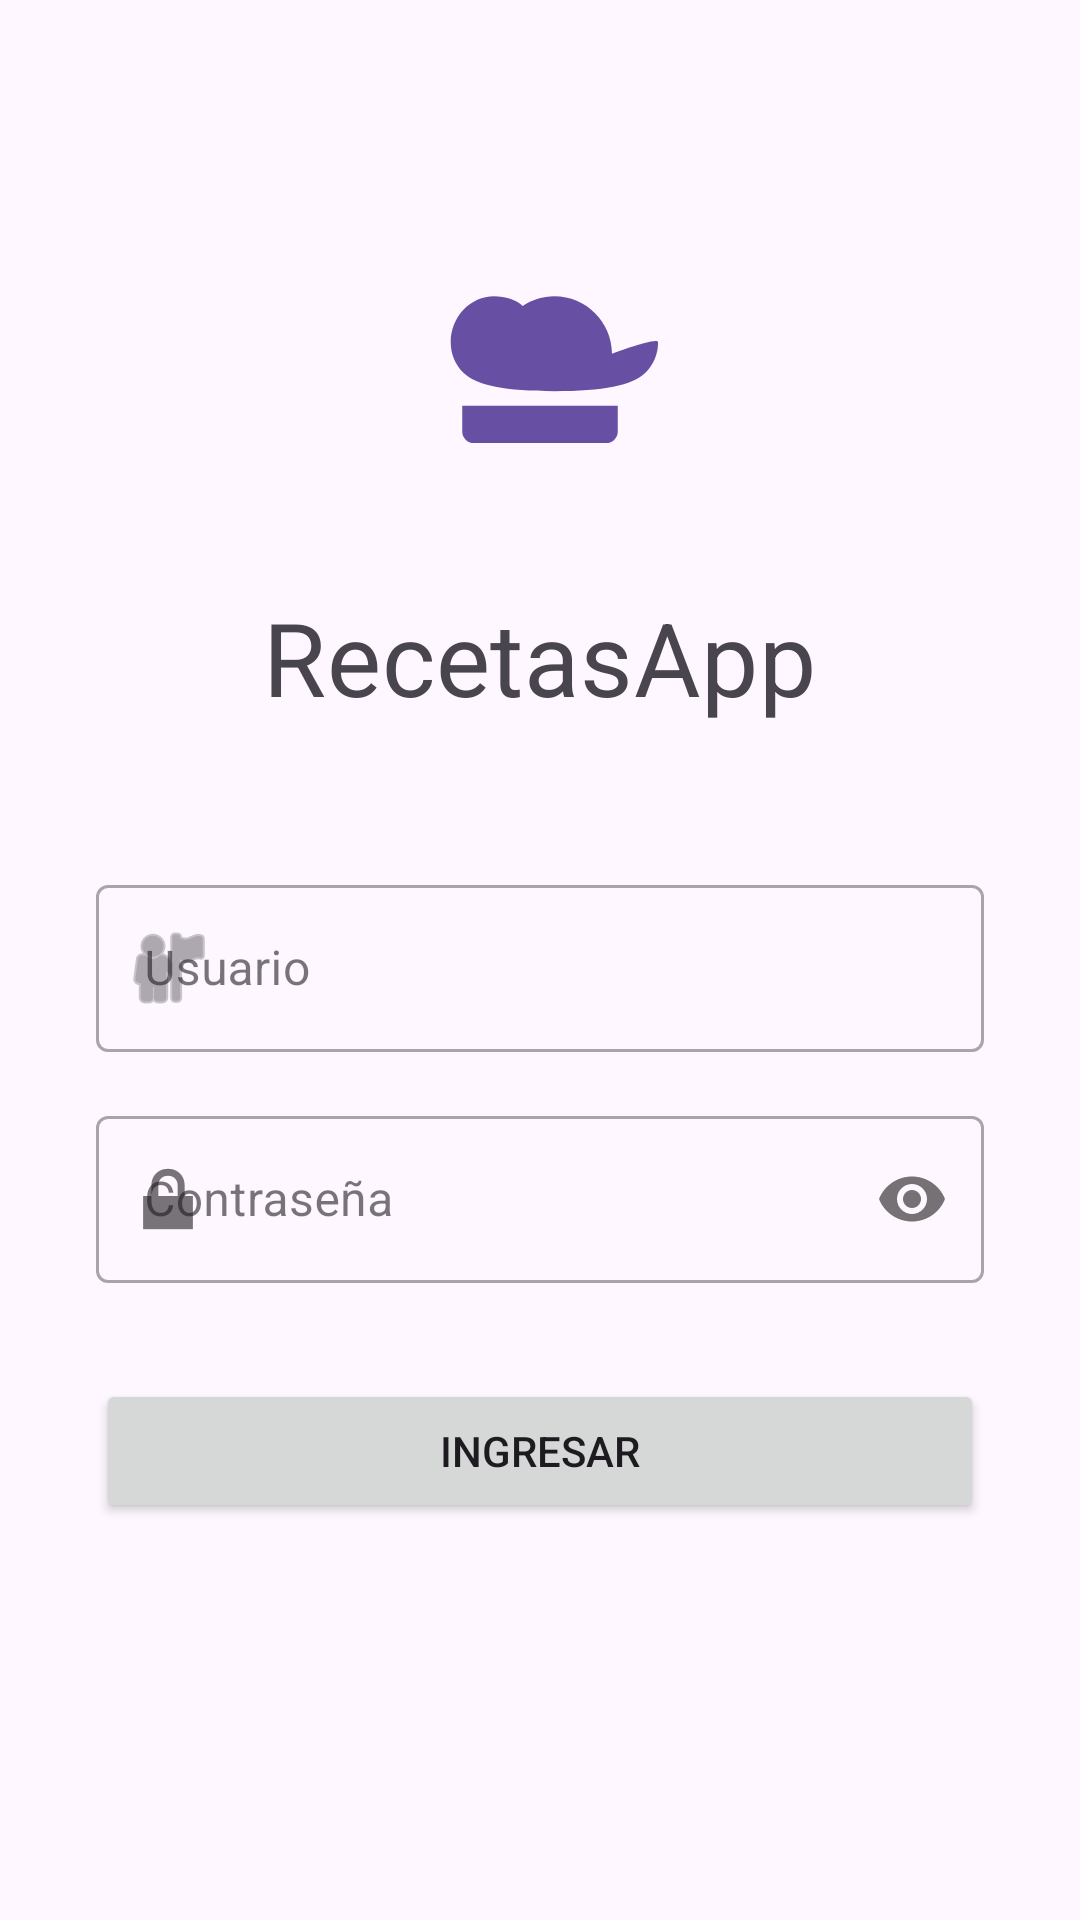

Screen size 1080w x 1920h. Icon name, then its box in pixels as (x1, y1, x2, y2):
chef hat: (450, 296, 658, 443)
